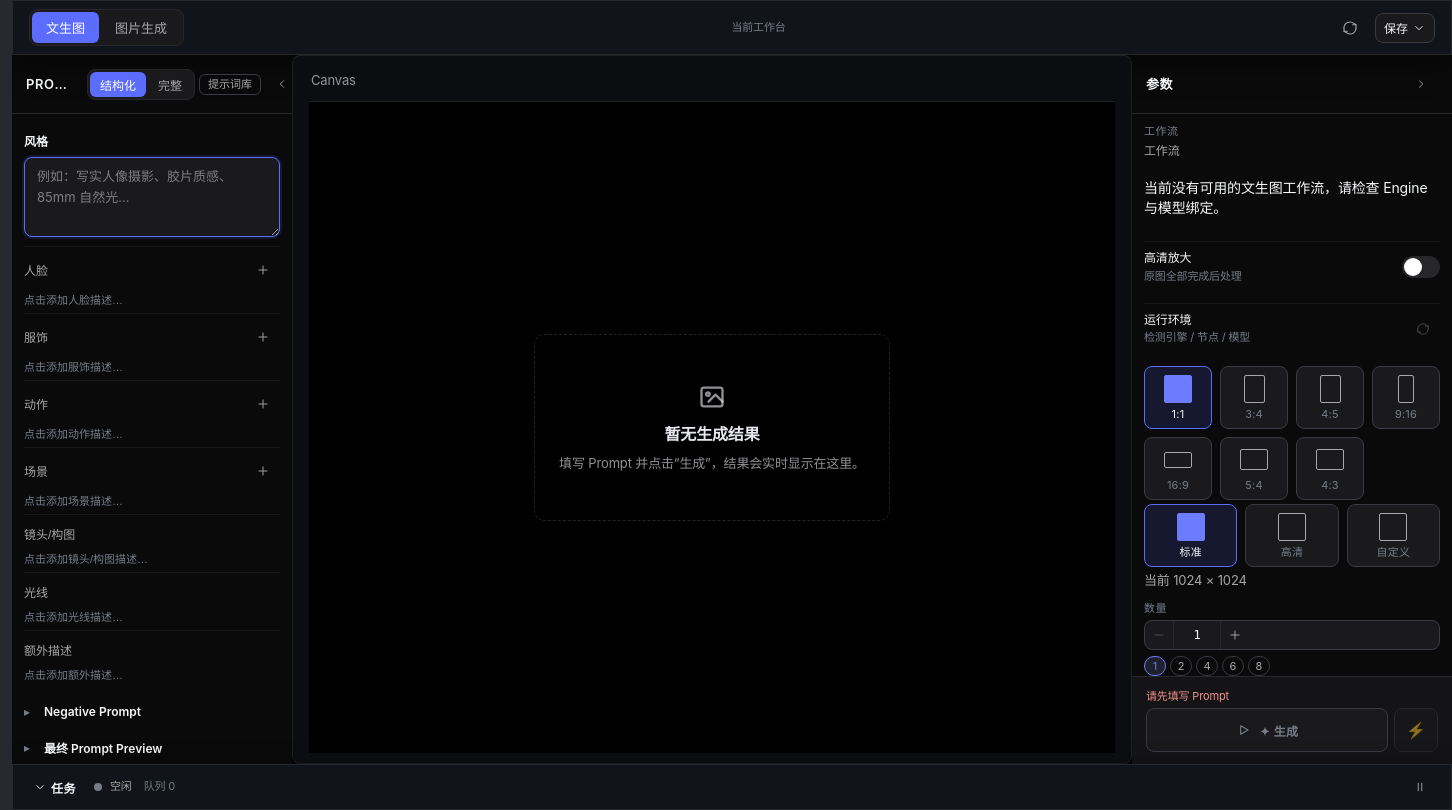
GeneratePage Phase 0.17.1：三栏可收起 › 左栏可收起为竖栏并可再展开
Expected: the heading "PROMPT" is shown, [26, 75, 79, 93]
Click the button named "收起 Prompt 栏" at (282, 84), box [265, 67, 299, 101]
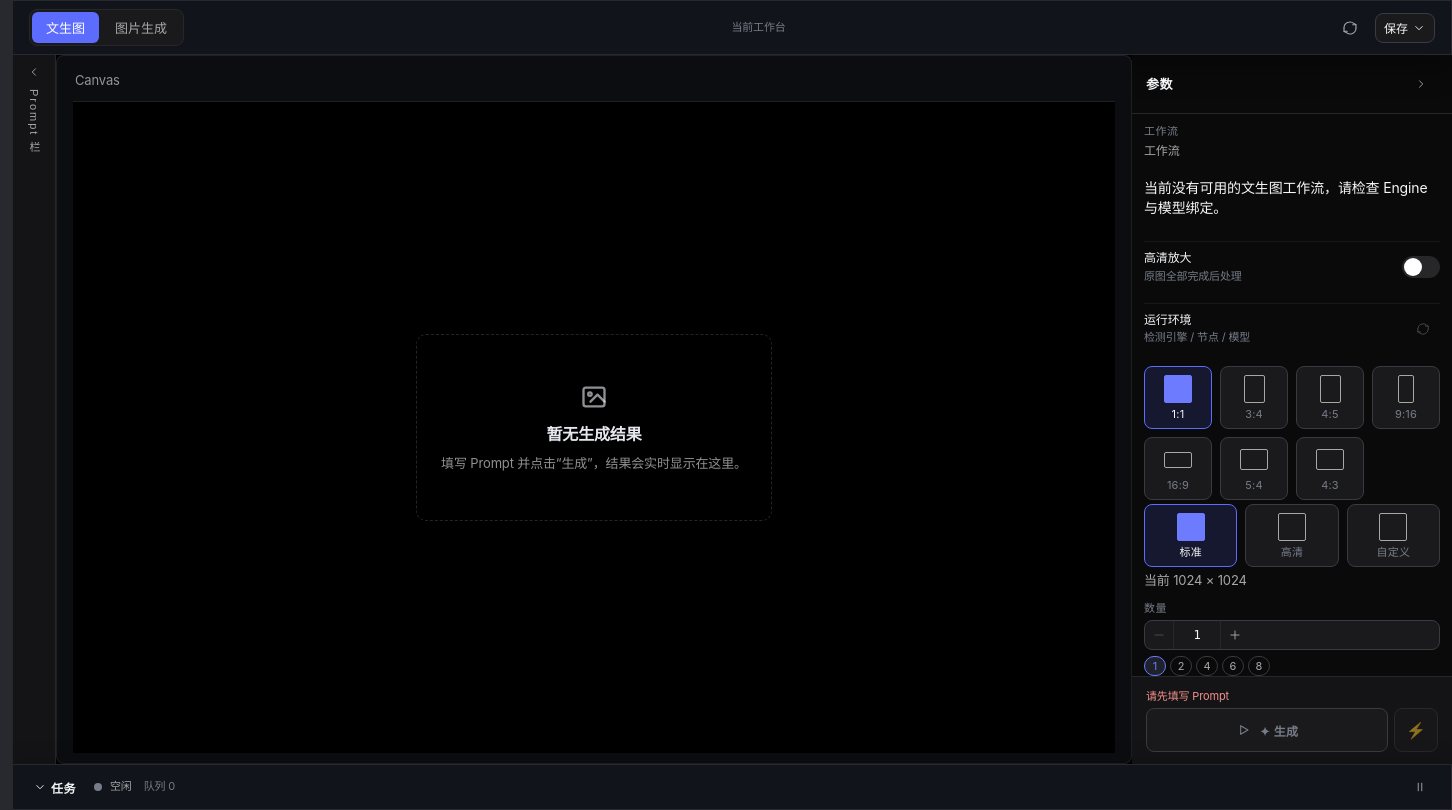
Expected: the button with aria-label "展开Prompt 栏" is shown
Click the button with aria-label "展开Prompt 栏" at (34, 410), box [13, 55, 55, 764]
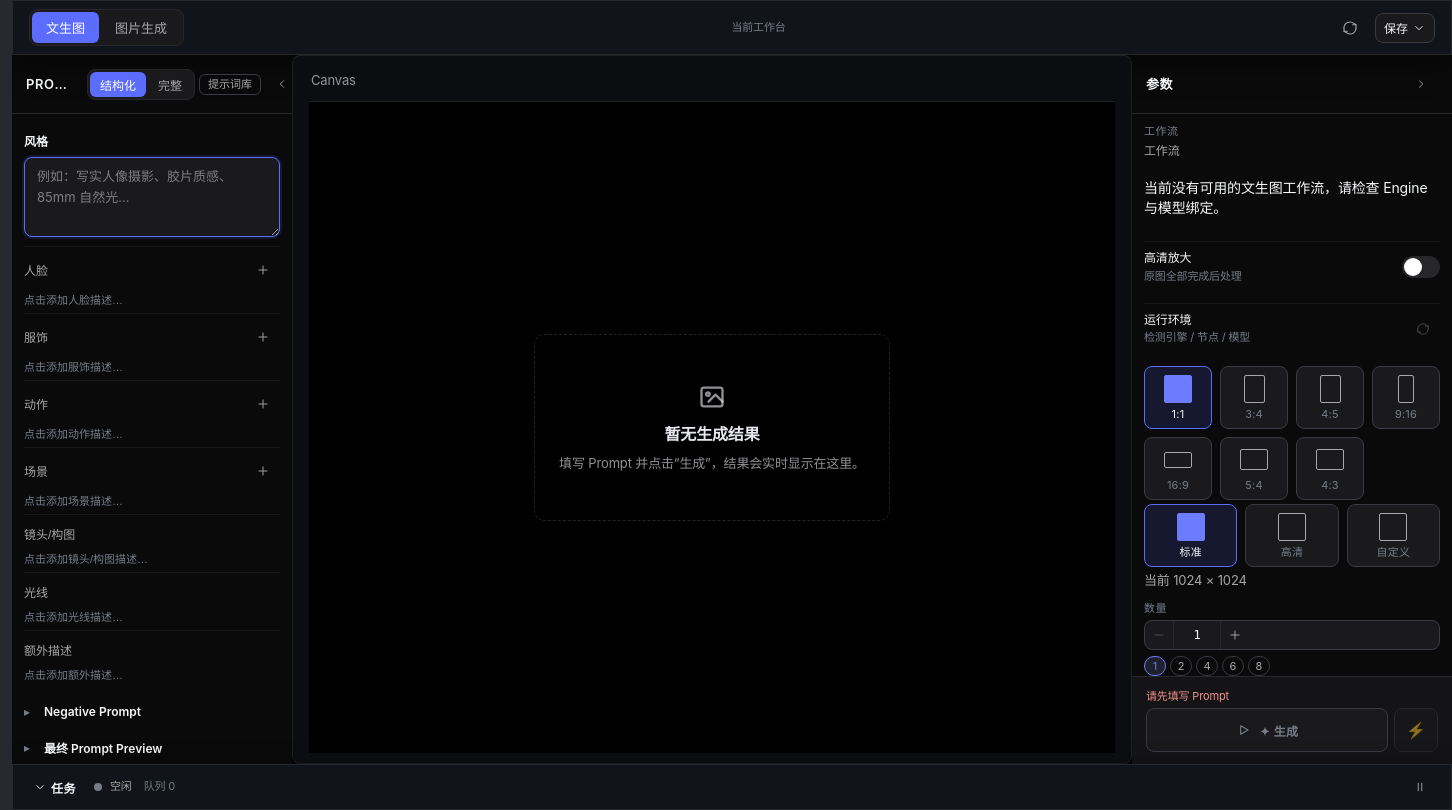
Expected: the heading "PROMPT" is shown, [26, 75, 79, 93]
